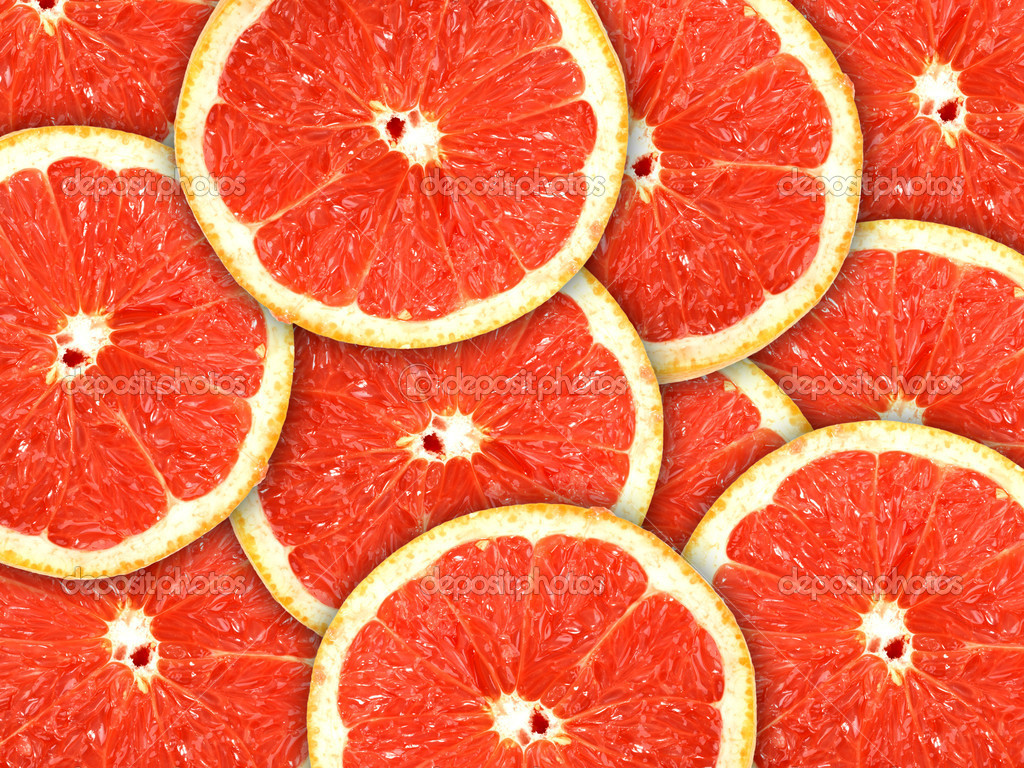orange: (146, 1, 663, 350), (1, 110, 311, 599), (241, 261, 673, 611), (300, 491, 800, 768), (662, 410, 1024, 745)
